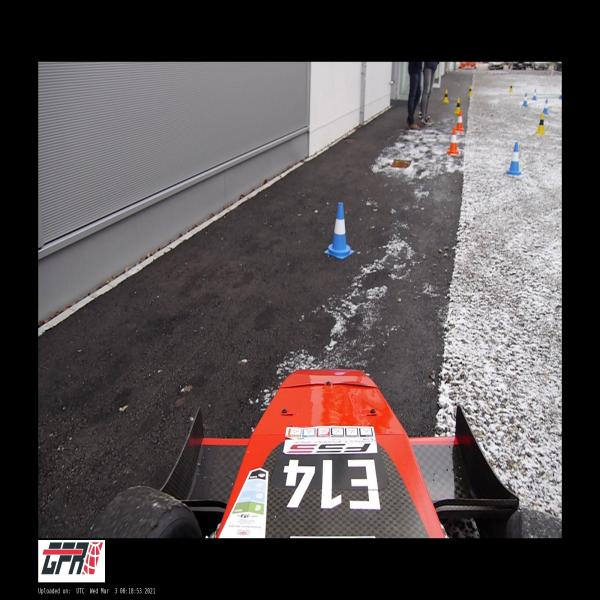blue_cone: (324, 202, 354, 259), (507, 142, 521, 175), (523, 93, 528, 106), (544, 99, 548, 114), (558, 88, 562, 100), (533, 89, 536, 100)
orange_cone: (447, 127, 459, 154), (456, 110, 464, 131)
yellow_cone: (536, 114, 545, 134), (455, 98, 460, 114), (443, 90, 449, 103), (468, 86, 472, 96), (510, 83, 512, 92)
